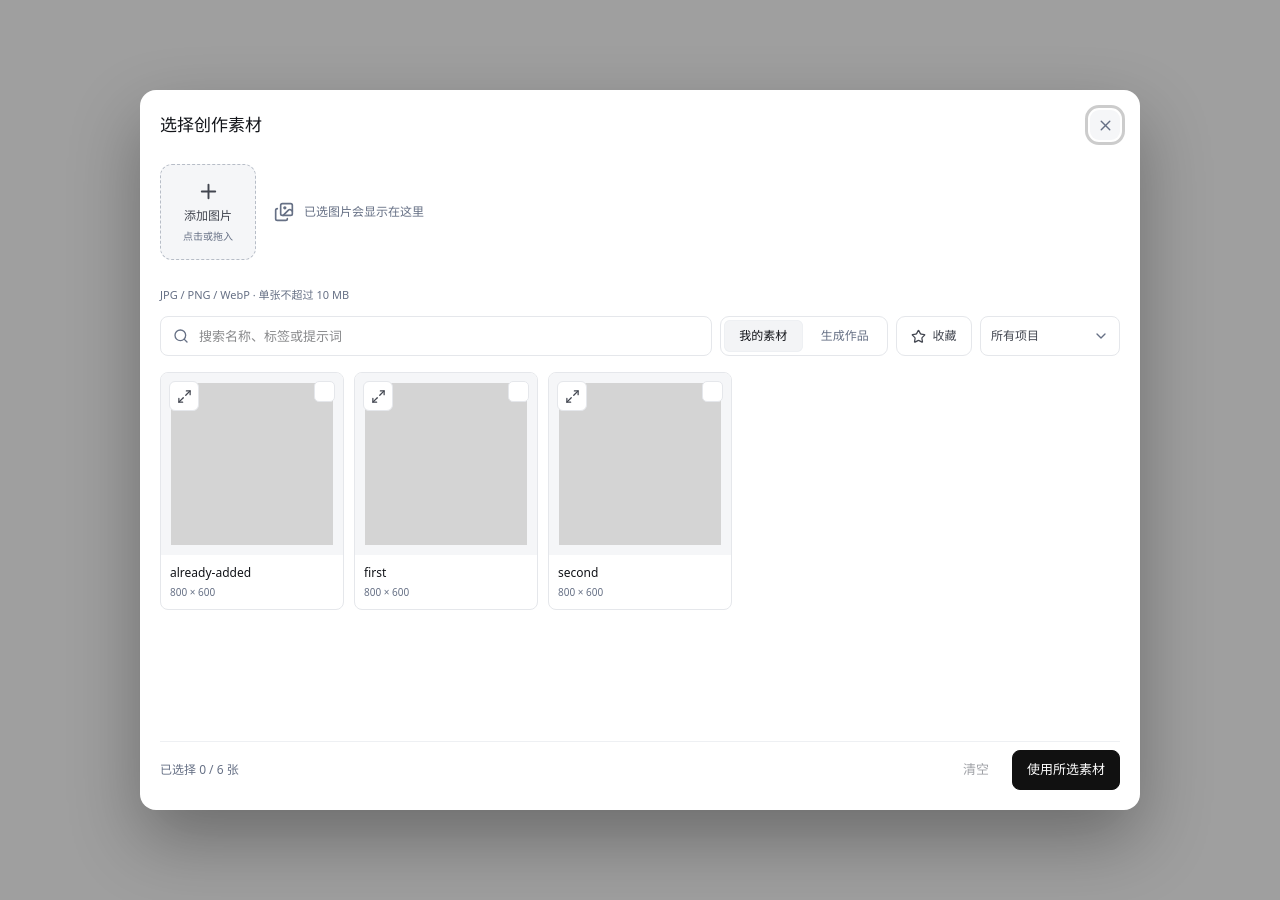
Test: keeps the staged selection outside the scrolling browser, even when emptied
Check: the element with class "asset-picker-pending" is shown, box [160, 164, 424, 260]
Check: the element with class "asset-picker-pending" reads "已选图片会显示在这里", box [304, 203, 424, 220]
Click the button "first 800 × 600" at (446, 578), box [355, 555, 537, 600]
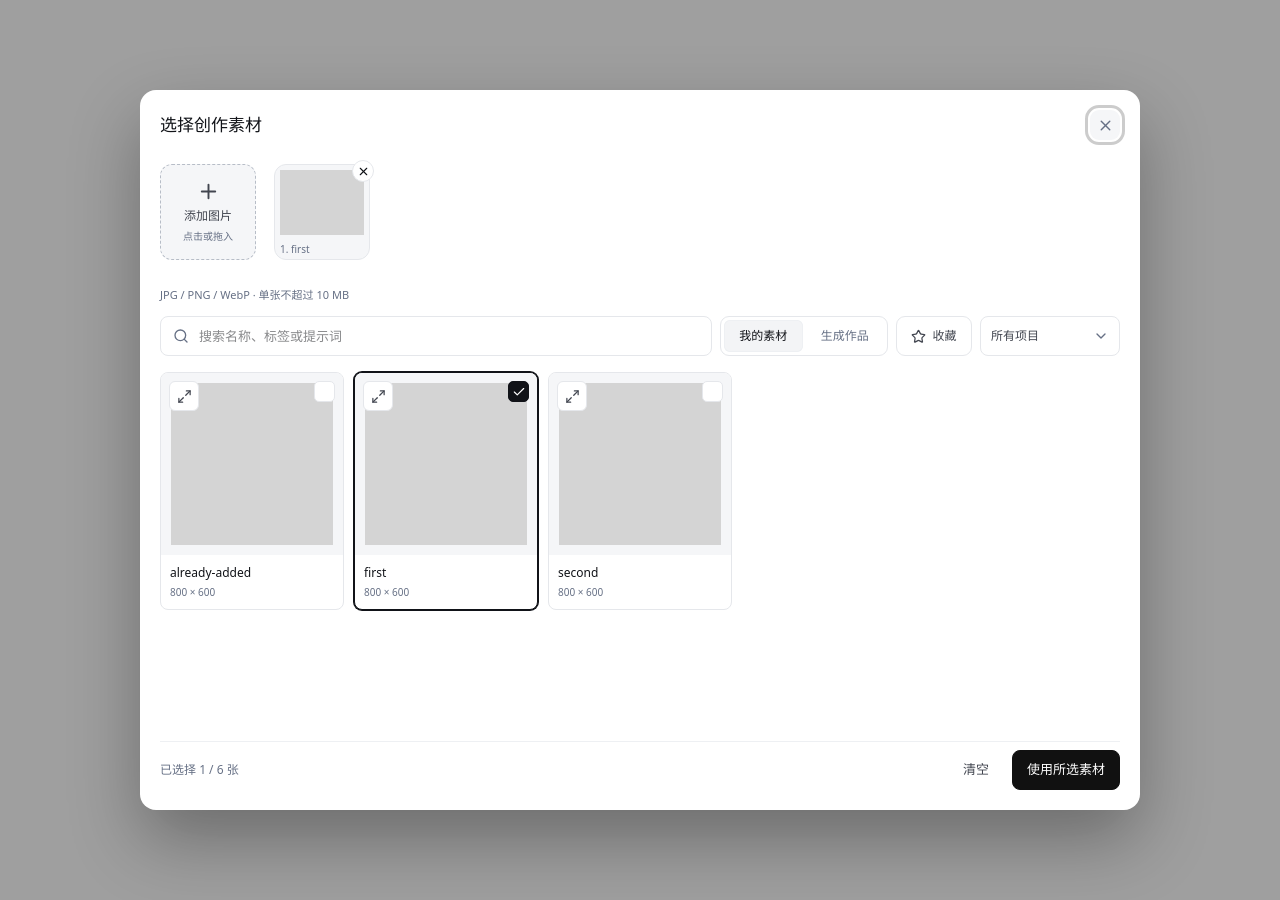
Click the button named "移除所选图片1" at (363, 171), box [352, 160, 374, 182]
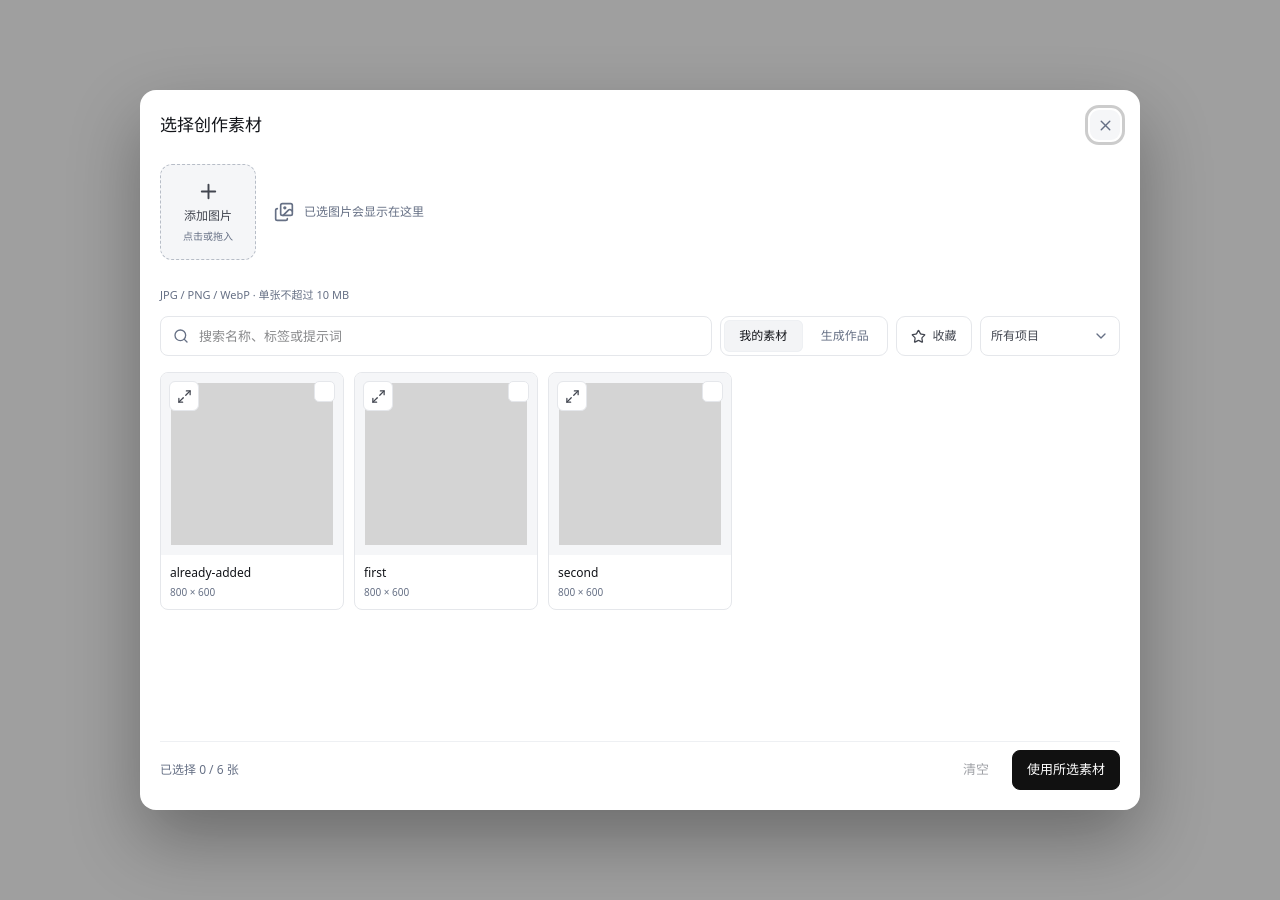
Check: the element with class "asset-picker-pending" reads "已选图片会显示在这里", box [304, 203, 424, 220]
